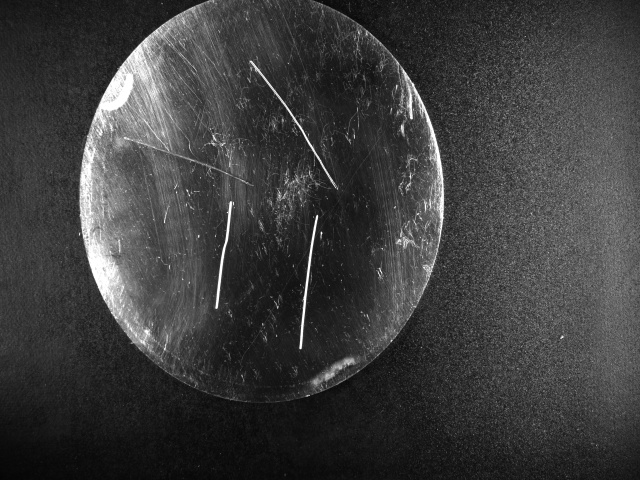ca_shang: (249, 55, 342, 193), (125, 132, 256, 188), (289, 212, 324, 350), (211, 200, 241, 310)
